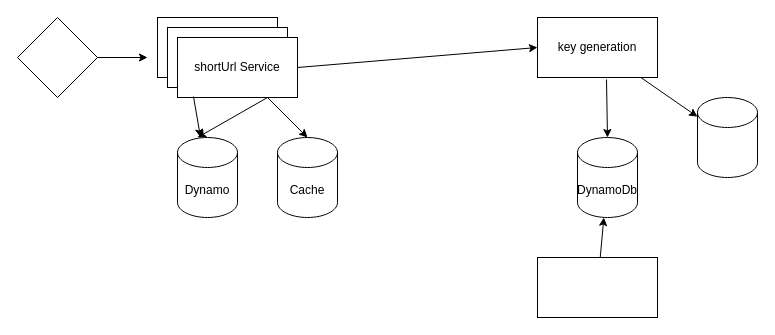
Some shapes in this 775 by 335 pixel diagram are drawn without their labels. The centre of each missing label's shape, as x and y in pixels:
KeygenJob: [597,287]
Load Balancer: [57,57]
Redis: [727,137]
